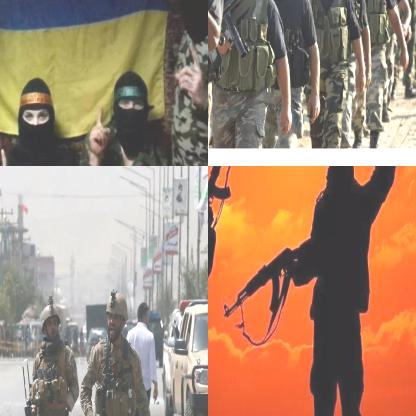rifle: (220, 232, 314, 344), (208, 166, 243, 259), (19, 362, 40, 415), (86, 380, 105, 415)
